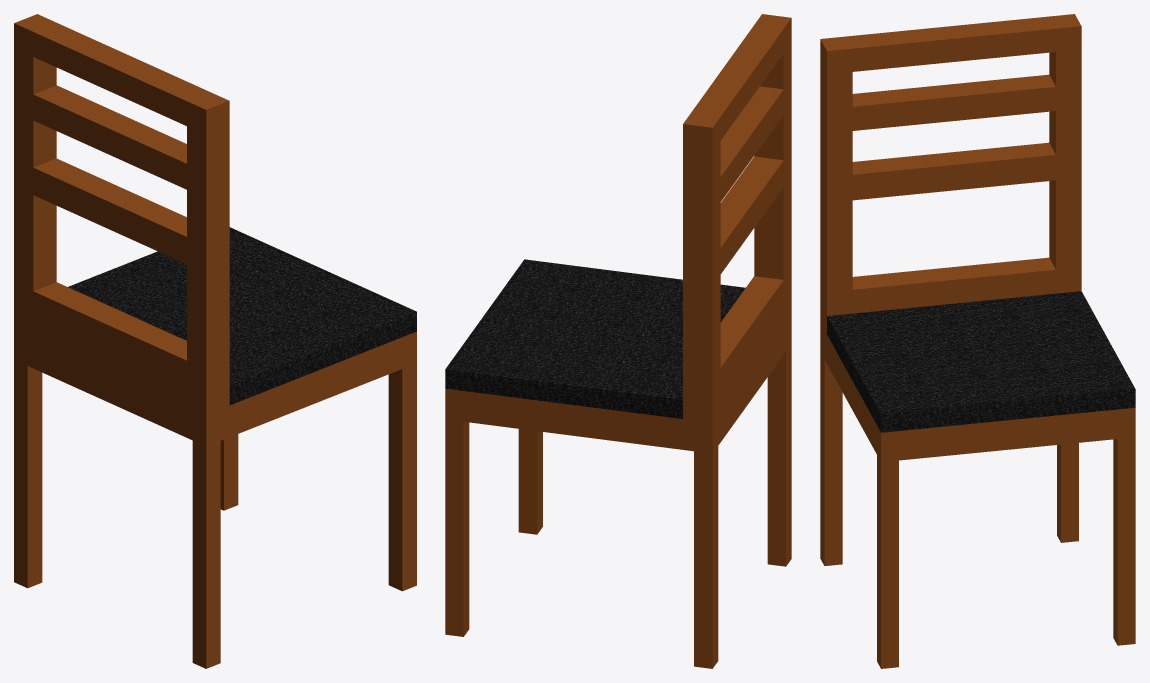
Rendered from CadeiraDeXadrezLazer.dae.
3 views of the same model, side by side, from view 1: azimuth 30°, elevation 25°; view 2: azimuth 150°, elevation 25°; view 3: azimuth 270°, elevation 25° (orthographic). The views are drawn at different scales.
Visible parts, largest first — view 1: instance_0 (×5); view 2: instance_0 (×5); view 3: instance_0 (×5).
Part boxes in pixels (<box>): instance_0 (×5): <box>14,14,416,668</box>; instance_0 (×5): <box>445,14,791,668</box>; instance_0 (×5): <box>820,14,1135,668</box>.
Size of the model in its own units: 19.67 by 19.35 by 35.19.
3 materials, 1 textured.
